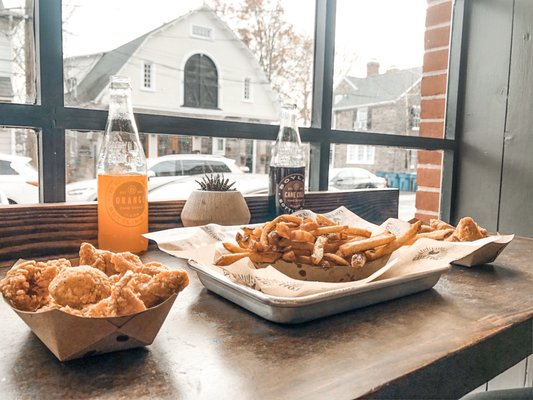burger: (96, 79, 149, 254), (269, 111, 309, 214), (341, 232, 396, 255)
curry: (2, 214, 532, 399)
